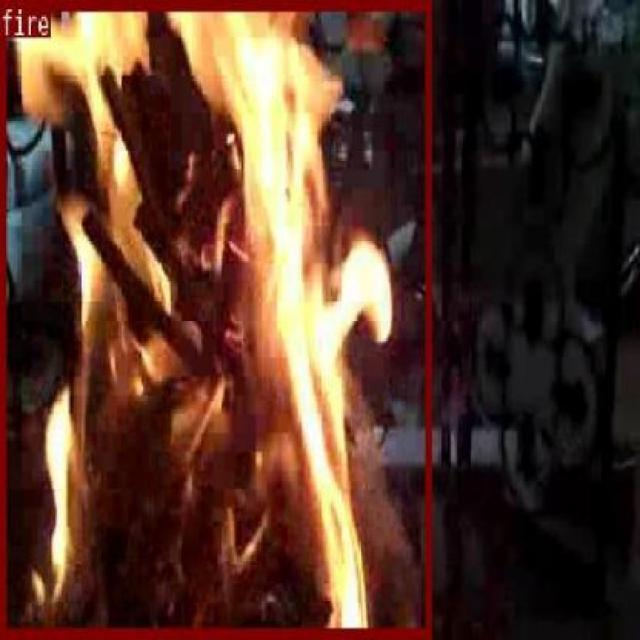Fire: (0, 0, 429, 635)
